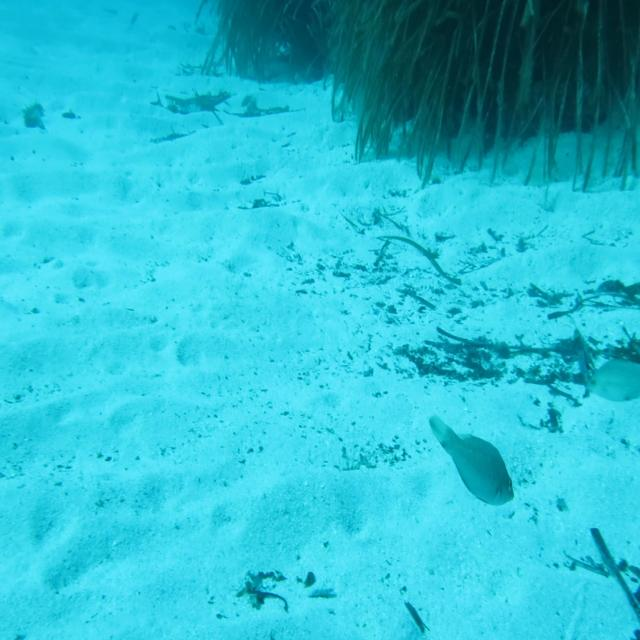BN: (426, 405, 520, 520)
female: (573, 340, 640, 419)
vegetation: (328, 0, 640, 138)
